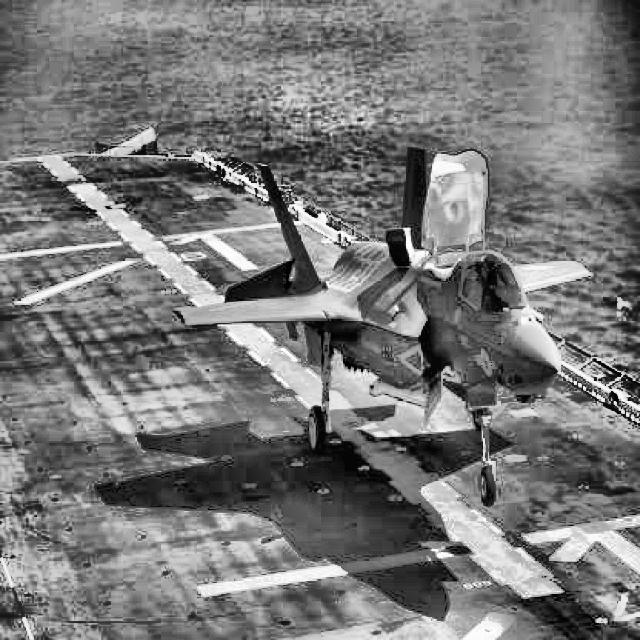F35: (173, 145, 593, 507)
